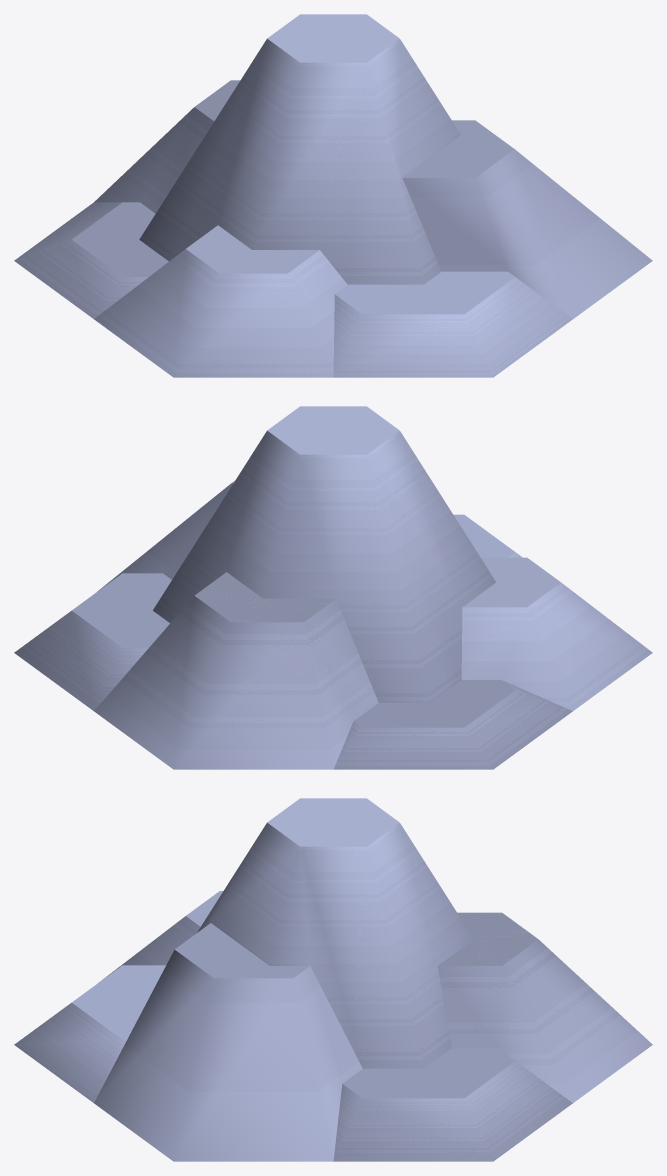
Rendered from tundra_hill.glb.
3 views of the same model, one above another, from view 1: azimuth 30°, elevation 25°; view 2: azimuth 150°, elevation 25°; view 3: azimuth 270°, elevation 25° (orthographic).
Parts seen in each view (by area): view 1: stone-hill; view 2: stone-hill; view 3: stone-hill.
Boxes of the visible parts, left/top/right/bottom form: stone-hill: left=14, top=14, right=652, bottom=377; stone-hill: left=14, top=406, right=652, bottom=769; stone-hill: left=14, top=798, right=652, bottom=1161.
Bounding box in the file's own units: 1 × 0.4432 × 1.15.
Materials: 1 (1 with a texture image).
